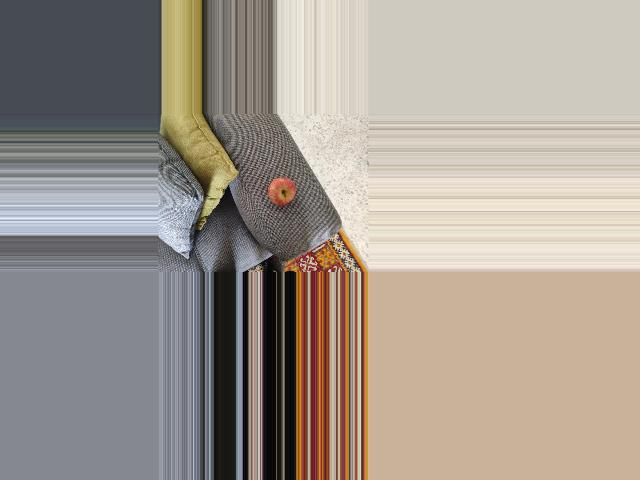apple: (265, 177, 296, 208)
